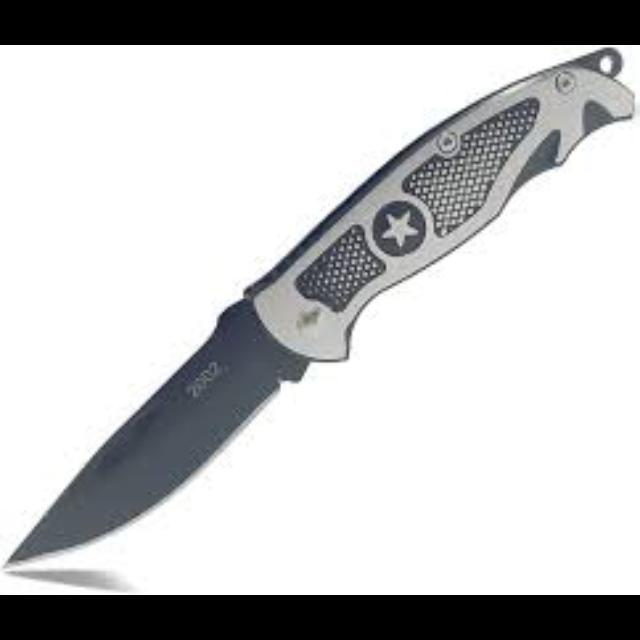Knife: (0, 46, 634, 568)
